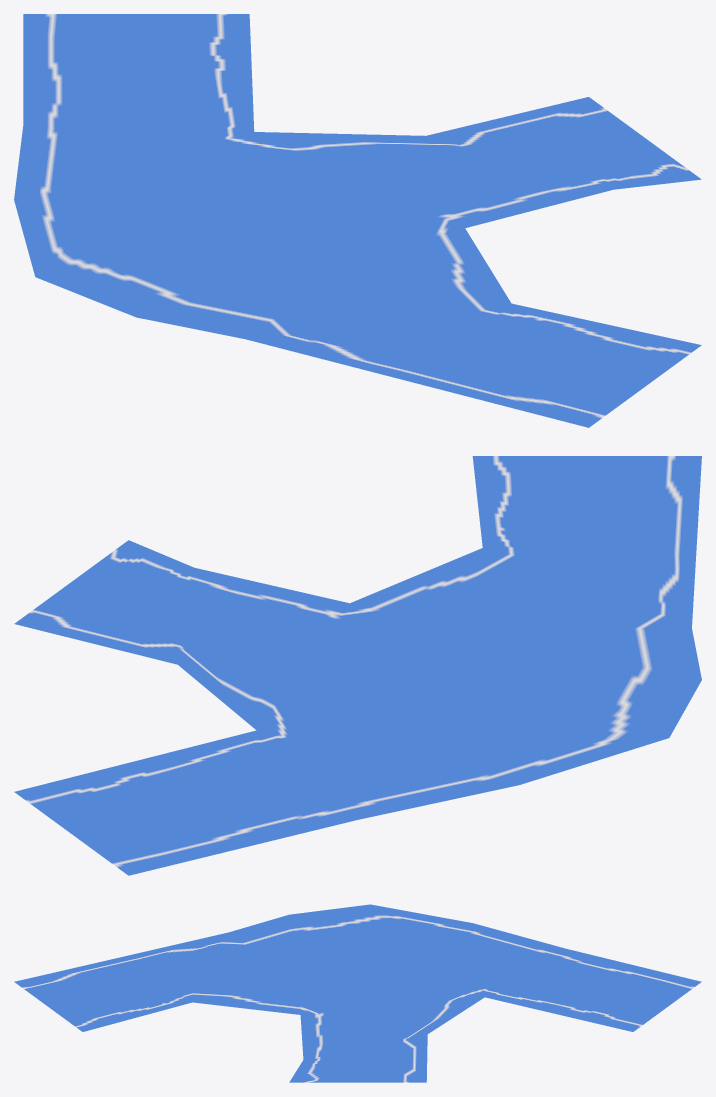
The model's file is river_3_a.obj.
The picture shows the model from 3 angles, top to bottom: view 1: azimuth 30°, elevation 25°; view 2: azimuth 150°, elevation 25°; view 3: azimuth 270°, elevation 25°; orthographic projection. The views are drawn at different scales.
Parts seen in each view (by area): view 1: river_3_a; view 2: river_3_a; view 3: river_3_a.
Boxes of the visible parts, left/top/right/bottom form: river_3_a: left=14, top=14, right=701, bottom=427; river_3_a: left=14, top=456, right=701, bottom=875; river_3_a: left=14, top=904, right=701, bottom=1082.
Bounding box in the file's own units: 2.04 × 0 × 3.33.
